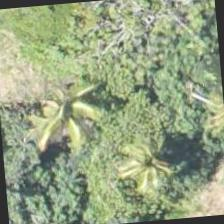Kelapa_Sawit: (23, 64, 121, 162), (96, 116, 194, 214)
